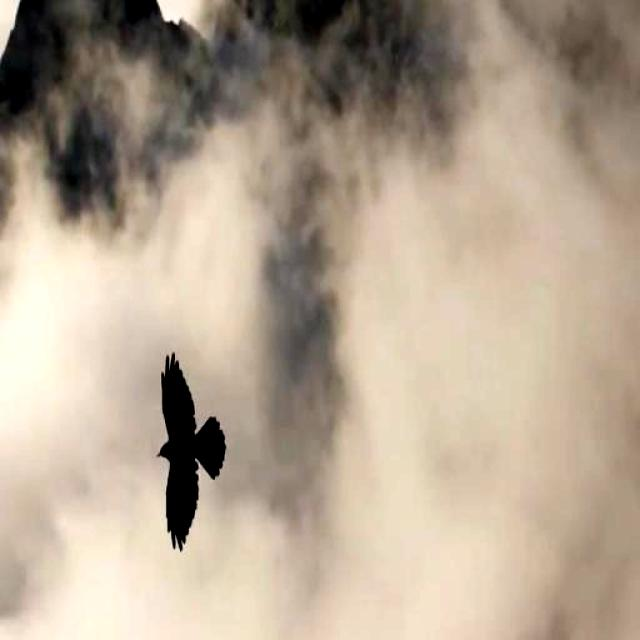airplane: (144, 332, 240, 556)
